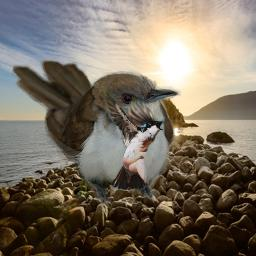Cuckoo: (12, 59, 181, 209)
Swallow: (100, 83, 164, 190)
